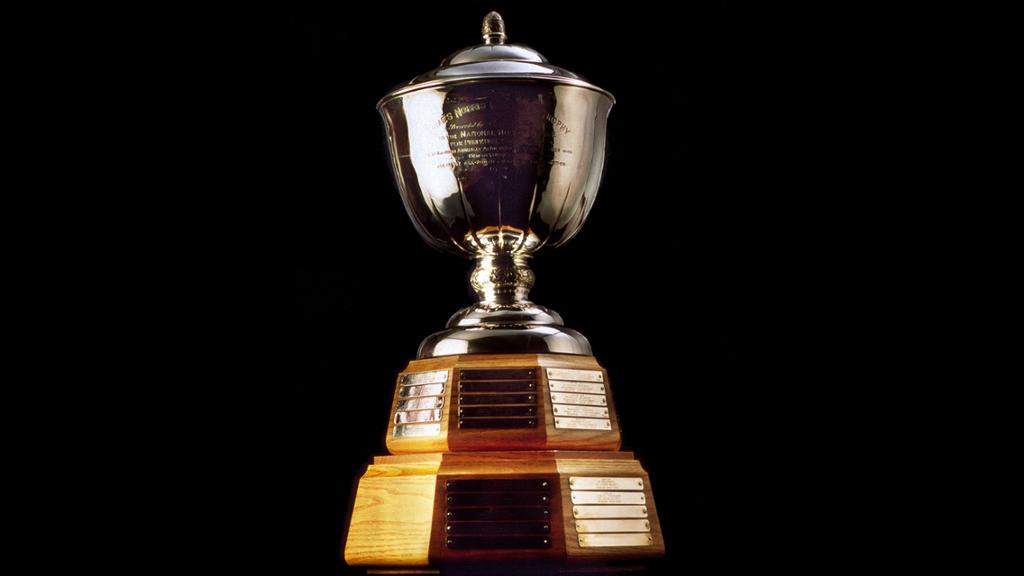trophy: (339, 7, 668, 576)
